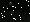person: (9, 4, 15, 15)
